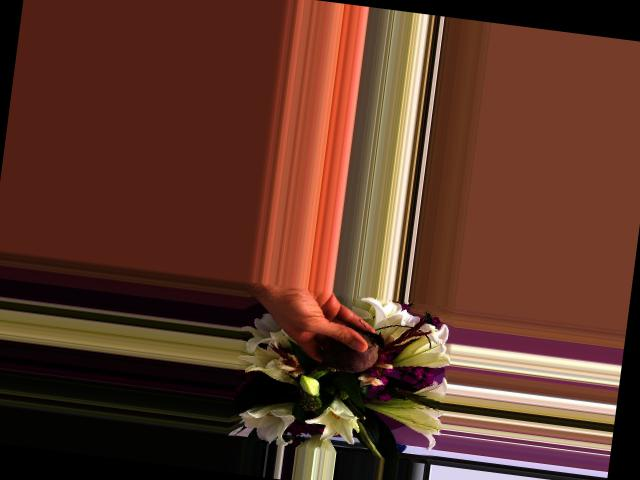beet: (304, 324, 386, 386)
